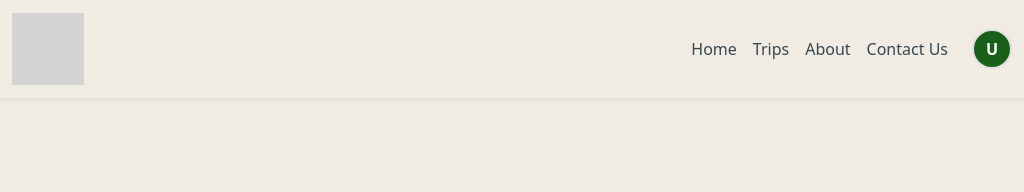
Test: NavigationBar › handles user with no username (defaults to "User")
Note: Click to open dropdown and check username display
What coordinates should you click on to do the following:
click the text "U"
I would click on:
 (992, 49)
Its box is [972,29,1012,69].
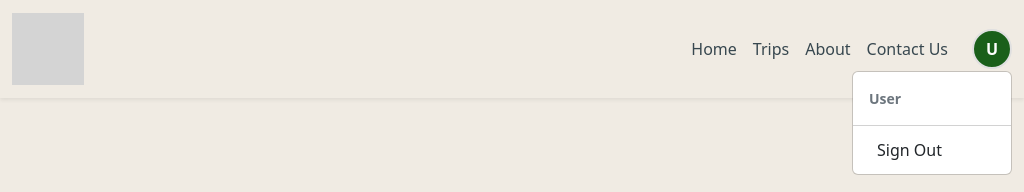
Now the text "User" is shown, box [869,89,901,108]
